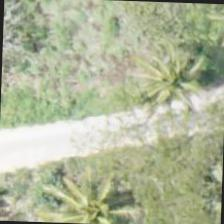Kelapa_Sawit: (127, 32, 220, 126), (46, 163, 140, 223)
